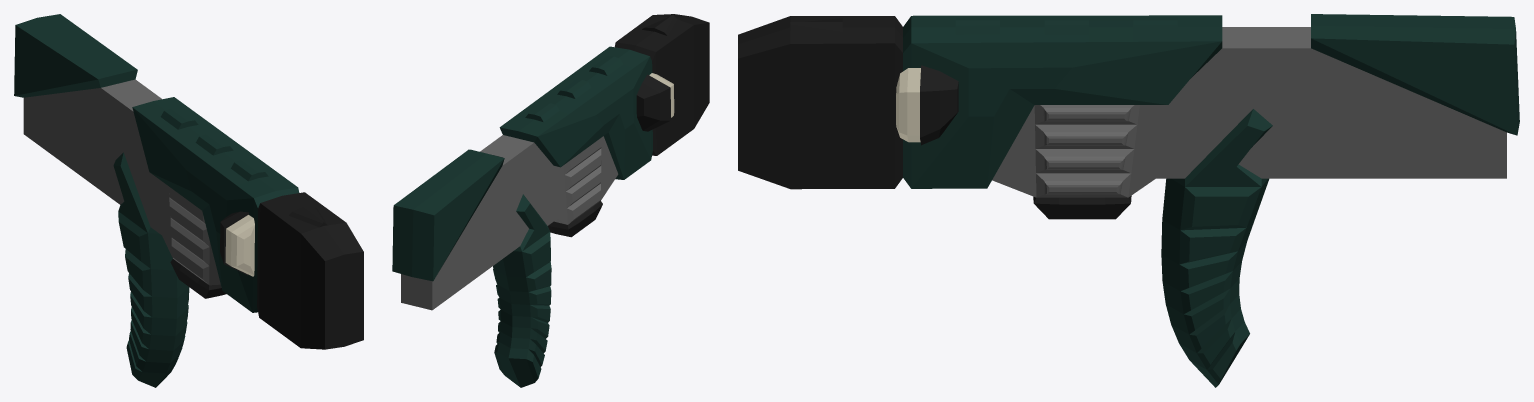
The model's file is gun.glb.
The picture shows the model from 3 angles, left to right: view 1: azimuth 30°, elevation 25°; view 2: azimuth 150°, elevation 25°; view 3: azimuth 270°, elevation 25°; orthographic projection. The views are drawn at different scales.
Parts seen in each view (by area): view 1: Cube; view 2: Cube; view 3: Cube, Glass.
Part boxes in pixels (x1,y1,x2,y2): Cube: [14, 14, 363, 387]; Cube: [392, 14, 709, 387]; Cube: [738, 14, 1519, 387]; Glass: [1043, 108, 1130, 194].
Bounding box in the file's own units: 0.3714 × 1.06 × 2.03.
Materials: 1 (1 with a texture image).
